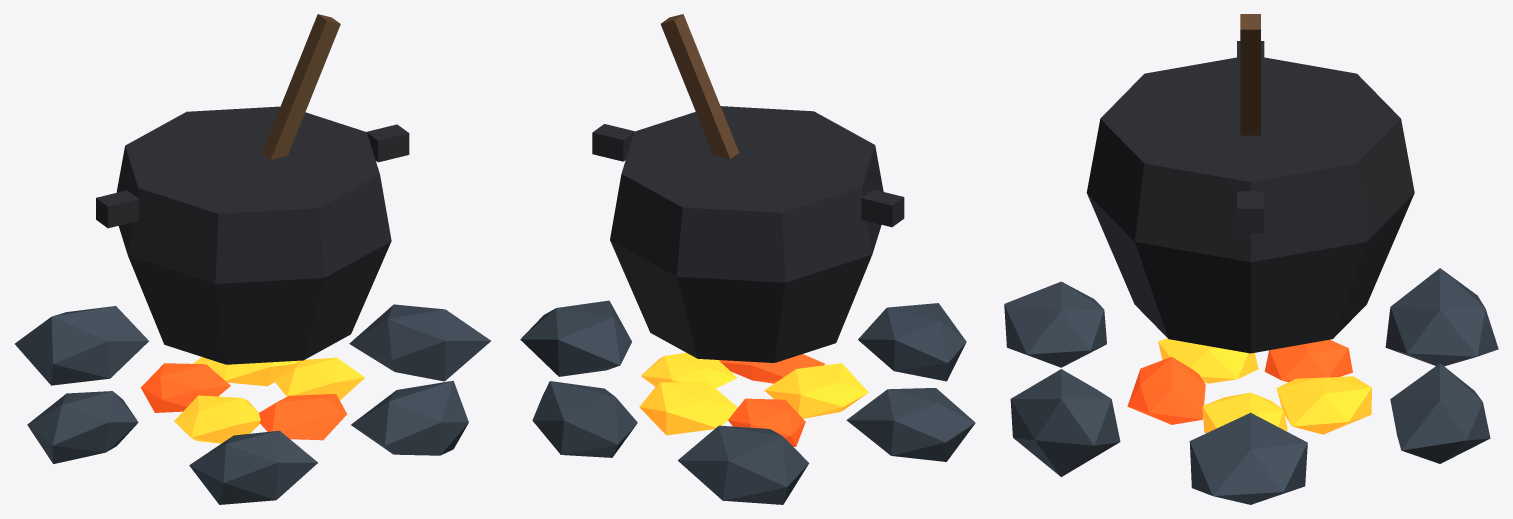
File: stew-pot.glb
3 renders of one model, left to right at view 1: azimuth 30°, elevation 25°; view 2: azimuth 150°, elevation 25°; view 3: azimuth 270°, elevation 25°, orthographic. The views are drawn at different scales.
Parts seen in each view (by area): view 1: pot, stew_pot, embers; view 2: pot, stew_pot, embers; view 3: pot, stew_pot, embers.
Boxes of the visible parts, x1,y1,x2,y2 form: pot: (96,14,409,364); stew_pot: (15,304,490,504); embers: (140,357,364,443); pot: (592,14,904,362); stew_pot: (520,300,975,504); embers: (639,352,868,446); pot: (1086,14,1414,353); stew_pot: (1004,268,1498,504); embers: (1127,338,1371,434).
Size of the model in its own units: 0.8403 by 0.7051 by 0.7236.
